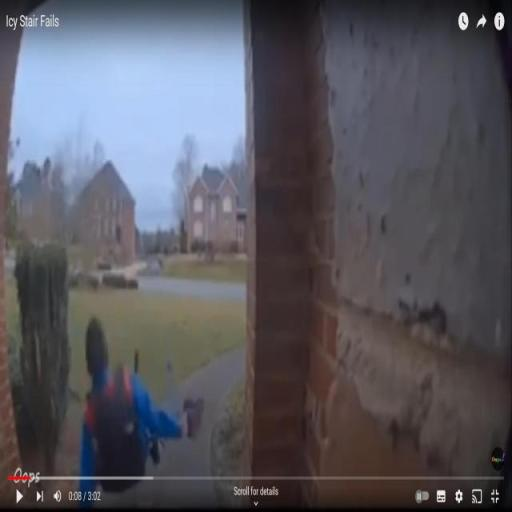Fall: (71, 312, 207, 512)
